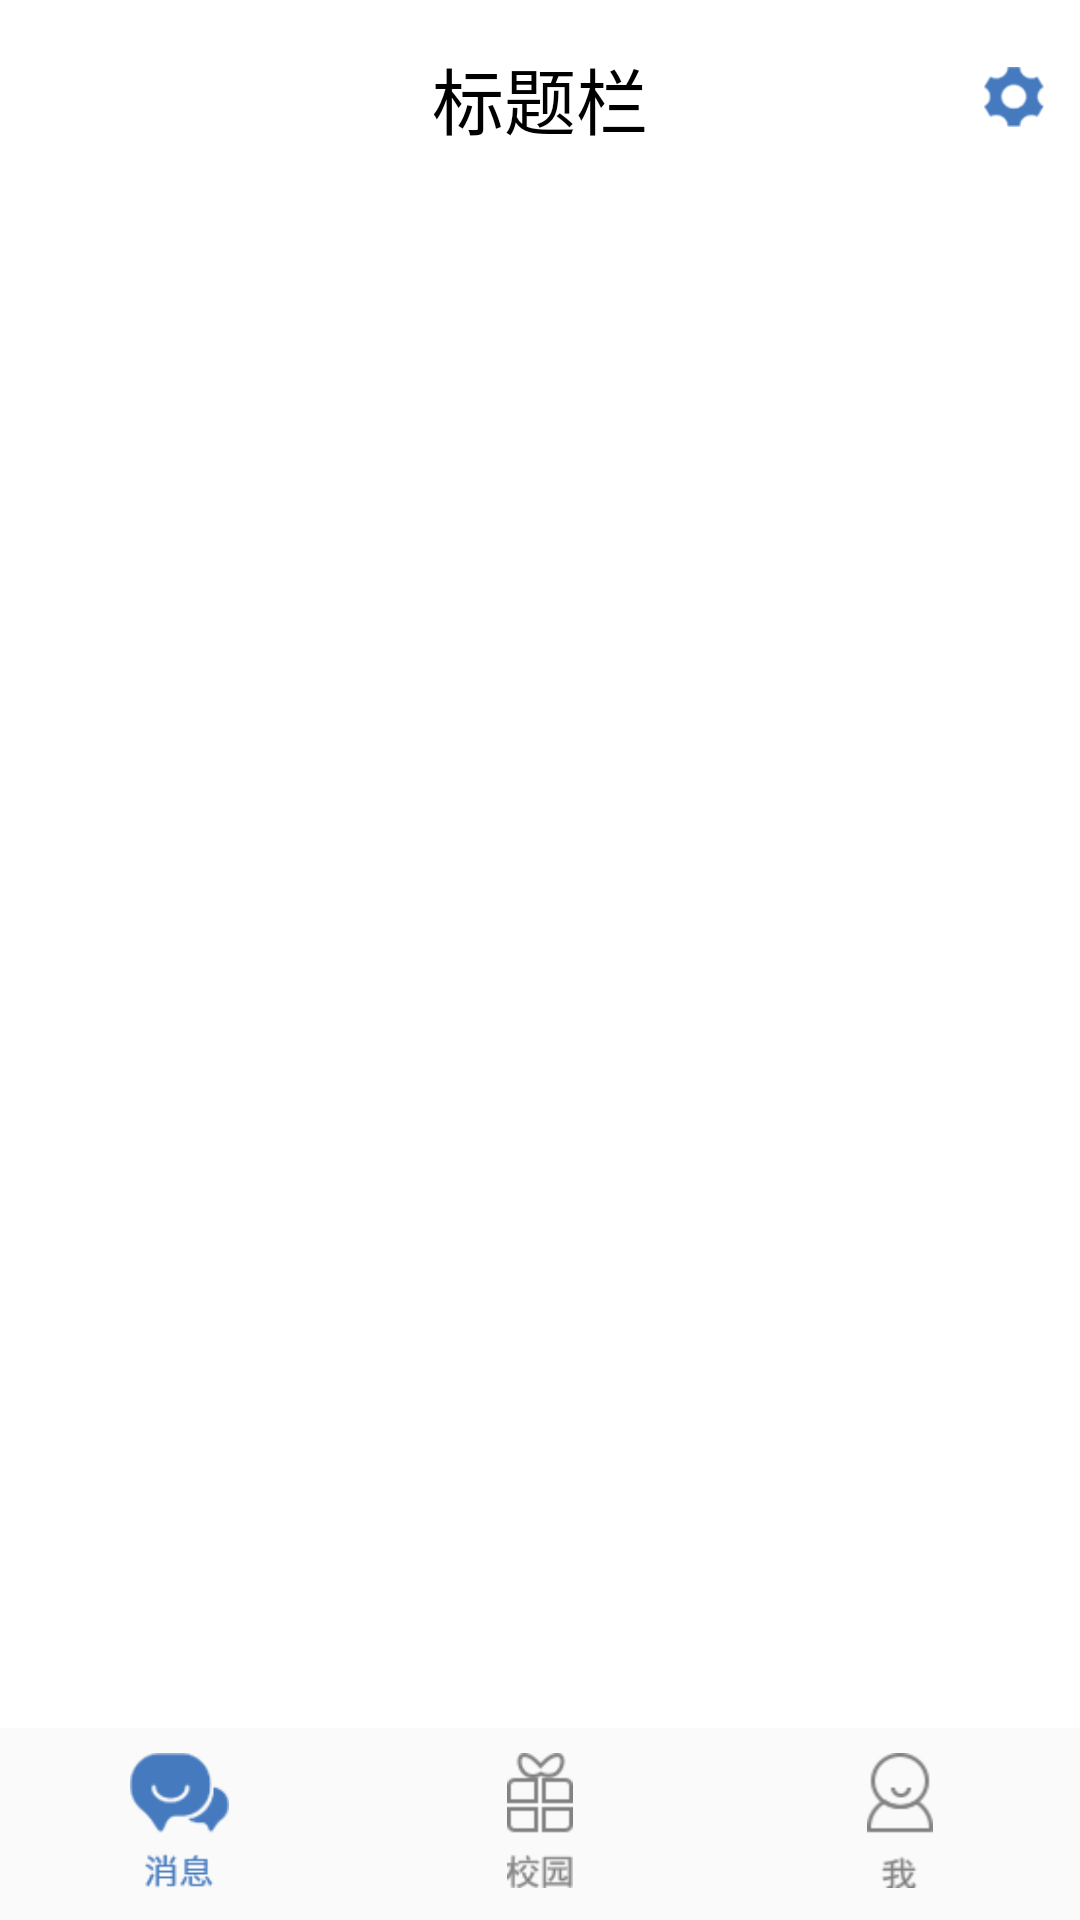

Locate icon controls on the screen. Image size 1080w x 1920h, boxes as bbox=(x1, y1, x2, y2).
settings: bbox=(984, 67, 1044, 127)
